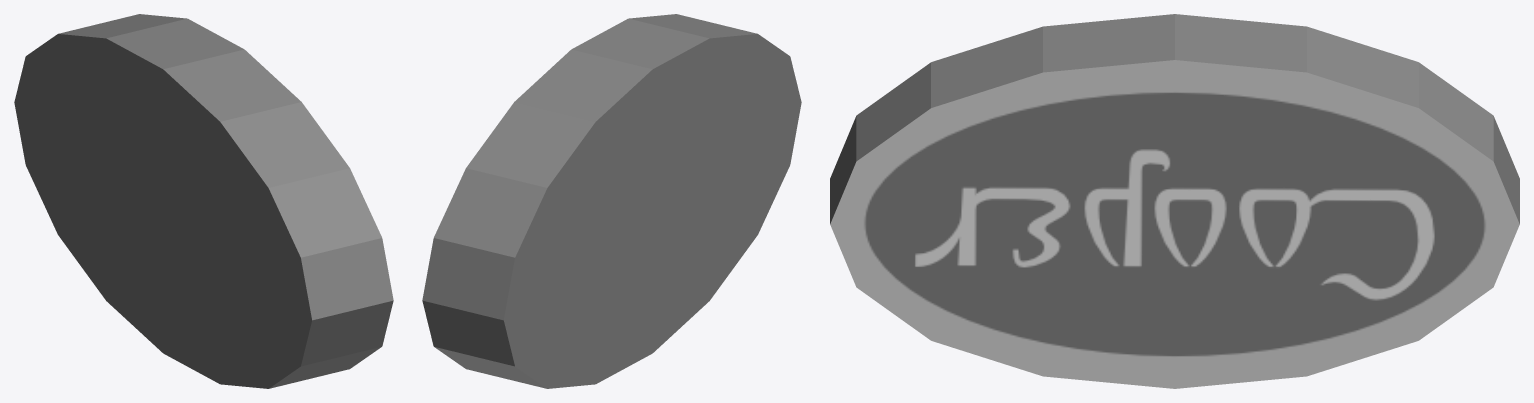
The model's file is mod_obj_veh_Truck_cooper.fbx.
3 views of the same model, side by side, from view 1: azimuth 30°, elevation 25°; view 2: azimuth 150°, elevation 25°; view 3: azimuth 270°, elevation 25° (orthographic). The views are drawn at different scales.
Visible parts, largest first — view 1: mesh_cooper; view 2: mesh_cooper; view 3: mesh_cooper.
Part boxes in pixels (x1=…): mesh_cooper: x1=14, y1=14, x2=393, y2=388; mesh_cooper: x1=422, y1=14, x2=801, y2=388; mesh_cooper: x1=830, y1=14, x2=1519, y2=388.
Bounding box in the file's own units: 60 × 200 × 380.
